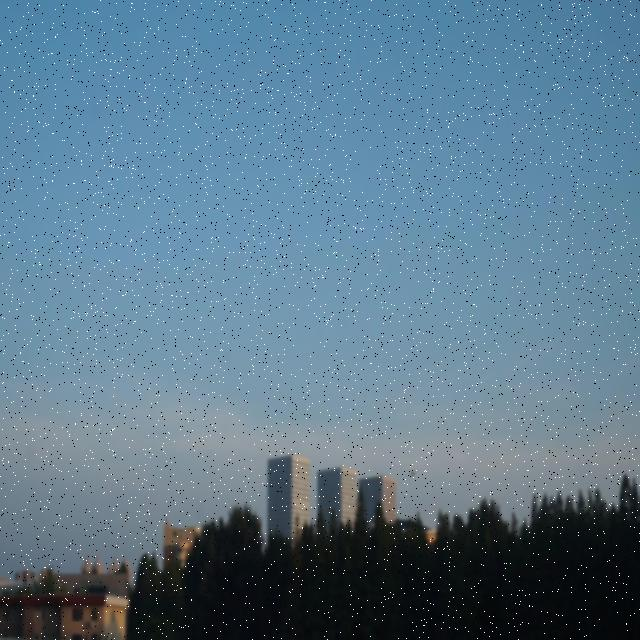UAV: (411, 470, 416, 478)
